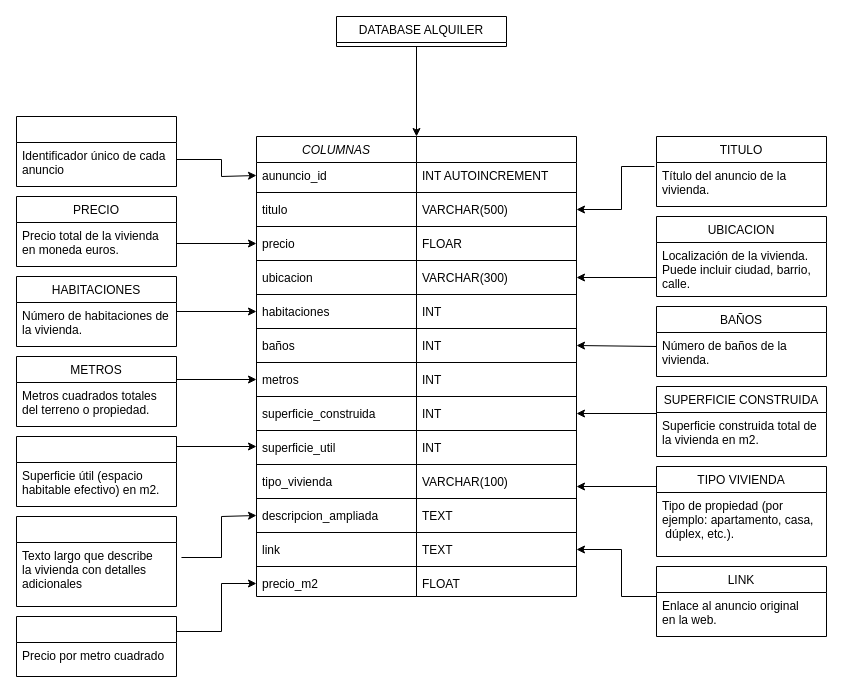
This 843x693 diagram has some shape labels left out. Here are the shapes that lost their labels. From the top down, the box of each, then its label:
(16, 116, 176, 186): ANUNCIO ID
(416, 136, 576, 596): TIPO
(16, 436, 176, 506): SUPERFICIE UTIL
(16, 516, 176, 606): DESCRIPCION AMPLIADA
(16, 616, 176, 676): PRECIO m2
